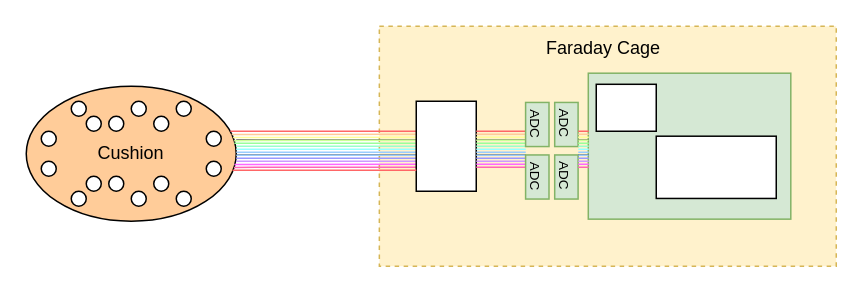
The diagram is 863 pixels wide and 293 high, and some of its shapes have lost their labels. Each missing label, with the box of its shape:
128 MHz Filter: (415, 100, 476, 191)
Hall Sensor: (595, 83, 656, 131)
RPi 0 with Wifi: (655, 135, 776, 198)
